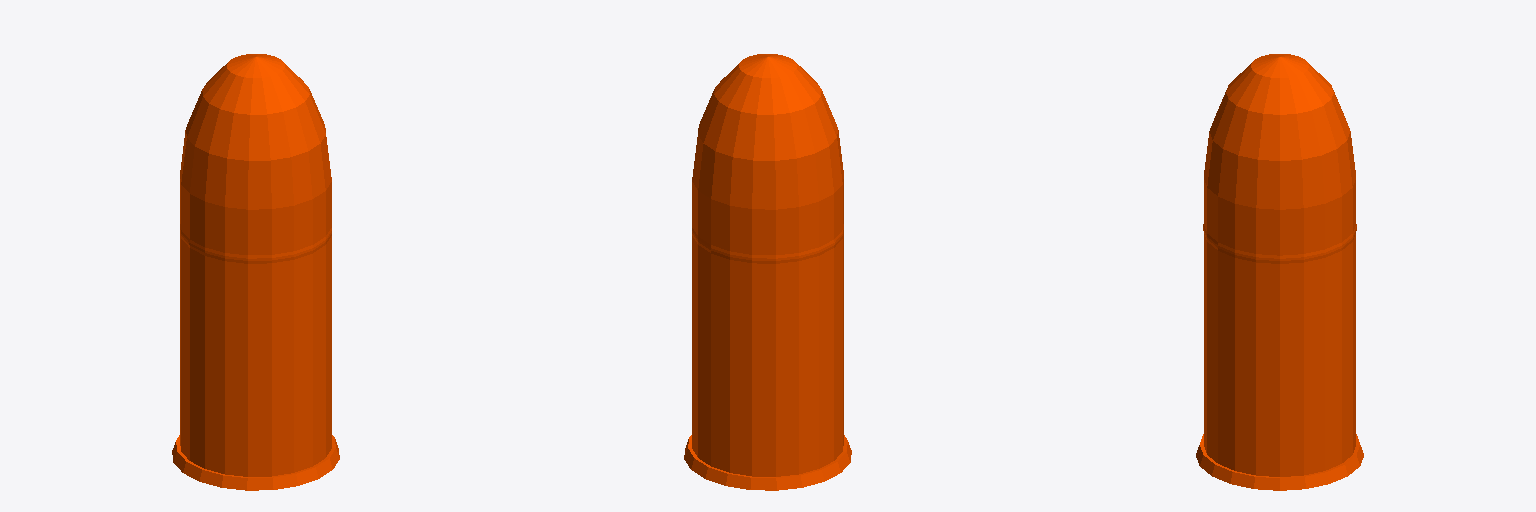
The model's file is bullet.obj.
3 views of the same model, side by side, from view 1: azimuth 30°, elevation 25°; view 2: azimuth 150°, elevation 25°; view 3: azimuth 270°, elevation 25° (orthographic).
Parts seen in each view (by area): view 1: pCylinder1; view 2: pCylinder1; view 3: pCylinder1.
Boxes of the visible parts, <box> form: pCylinder1: <box>172,54,339,490</box>; pCylinder1: <box>684,54,851,490</box>; pCylinder1: <box>1196,54,1363,490</box>.
Bounding box in the file's own units: 2.21 × 5.75 × 2.21.